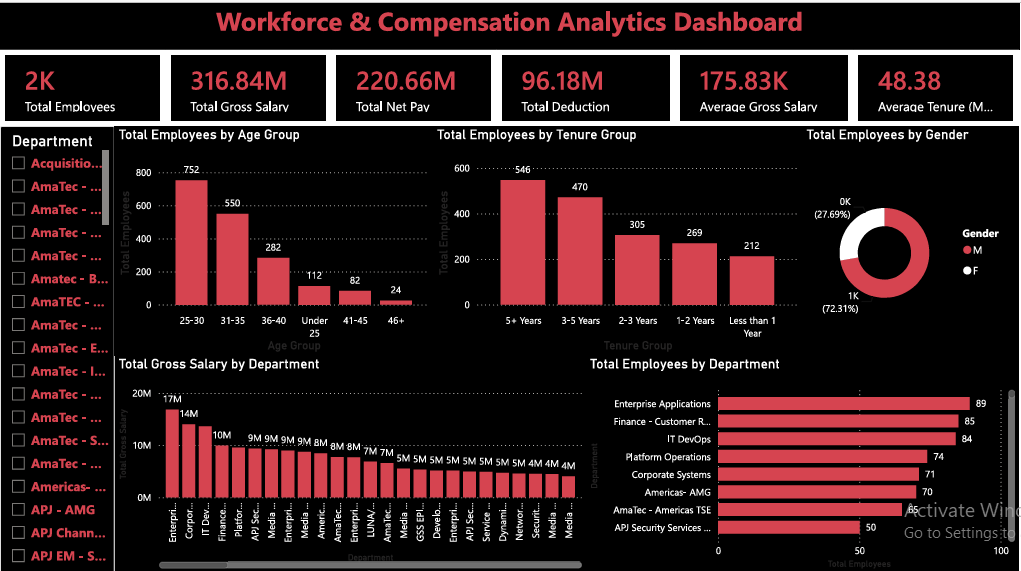

The page's visual inventory and layout, read from the dashboard file:
{"tool":"powerbi","page":{"name":"Page 1","canvas":[1280,720],"ordinal":0},"visuals":[{"type":"textbox","box":[0,0,1280,64],"z":0},{"type":"cardVisual","fields":{"Data":["Measure.Total Gross Salary"]},"box":[208,64,208,96],"z":1000},{"type":"cardVisual","fields":{"Data":["Measure.Total Net Pay"]},"box":[416,64,208,96],"z":2000},{"type":"cardVisual","fields":{"Data":["Measure.Total Deduction"]},"box":[624,64,224,96],"z":3000},{"type":"cardVisual","fields":{"Data":["Measure.Total Employees"]},"box":[0,64,208,96],"z":4000},{"type":"cardVisual","fields":{"Data":["Measure.Average Gross Salary"]},"box":[848,64,224,96],"z":5000},{"type":"cardVisual","fields":{"Data":["Measure.Average Tenure (Months)"]},"box":[1072,64,208,96],"z":6000},{"type":"clusteredBarChart","fields":{"Y":["Measure.Total Employees"],"Category":["NW.Department"]},"box":[736,448,544,272],"z":7000},{"type":"clusteredColumnChart","fields":{"Category":["NW.Department"],"Y":["Measure.Total Gross Salary"]},"box":[144,448,592,272],"z":8000},{"type":"slicer","fields":{"Values":["NW.Department"]},"box":[0,160,144,560],"z":9000},{"type":"donutChart","fields":{"Y":["Measure.Total Employees"],"Category":["NW.Gender"]},"box":[1008,160,272,288],"z":10000},{"type":"clusteredColumnChart","fields":{"Category":["NW.Age Group"],"Y":["Measure.Total Employees"]},"box":[144,160,400,288],"z":12000},{"type":"clusteredColumnChart","fields":{"Category":["NW.Tenure Group"],"Y":["Measure.Total Employees"]},"box":[544,160,464,288],"z":13000}]}

Visuals, with their boxes on the page's 1280x720 design canvas (x1, y1, x2, y2). These are canvas units, not pixel positions in the 1021x571 screenshot, which may show the page scaled, cropped or inside an application window:
textbox: Rect(0, 0, 1280, 64)
cardVisual - Measure.Total Gross Salary: Rect(208, 64, 416, 160)
cardVisual - Measure.Total Net Pay: Rect(416, 64, 624, 160)
cardVisual - Measure.Total Deduction: Rect(624, 64, 848, 160)
cardVisual - Measure.Total Employees: Rect(0, 64, 208, 160)
cardVisual - Measure.Average Gross Salary: Rect(848, 64, 1072, 160)
cardVisual - Measure.Average Tenure (Months): Rect(1072, 64, 1280, 160)
clusteredBarChart - Measure.Total Employees x NW.Department: Rect(736, 448, 1280, 720)
clusteredColumnChart - NW.Department x Measure.Total Gross Salary: Rect(144, 448, 736, 720)
slicer - NW.Department: Rect(0, 160, 144, 720)
donutChart - Measure.Total Employees x NW.Gender: Rect(1008, 160, 1280, 448)
clusteredColumnChart - NW.Age Group x Measure.Total Employees: Rect(144, 160, 544, 448)
clusteredColumnChart - NW.Tenure Group x Measure.Total Employees: Rect(544, 160, 1008, 448)
